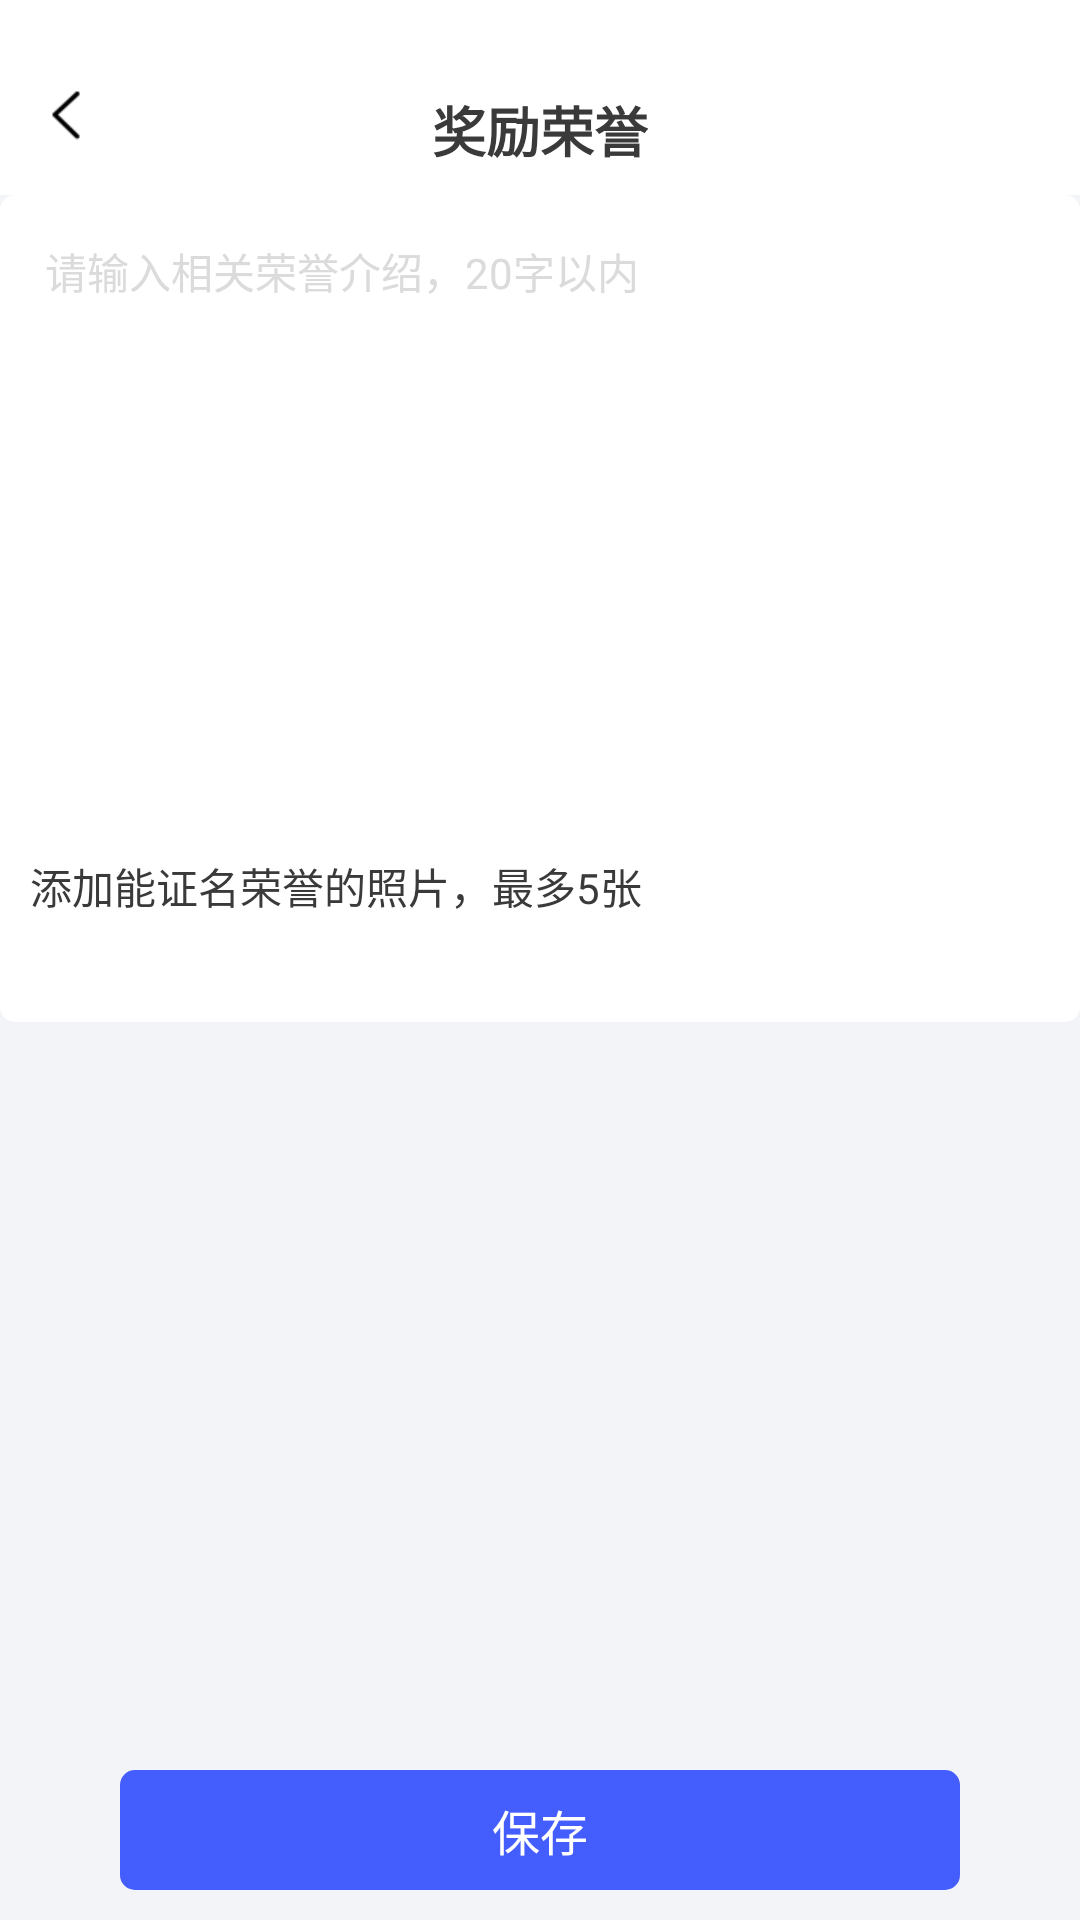

Point at icon controls on the screen. Image size 1080×1920, points as [x,y].
left: [66,115]
